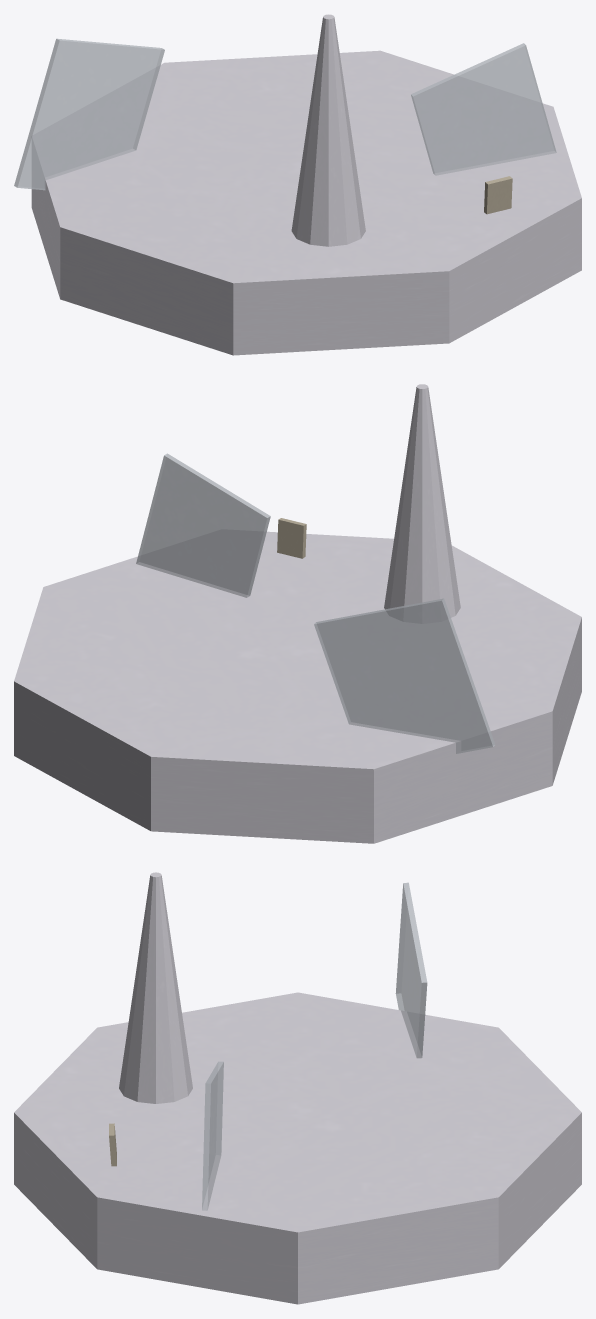
File: glass-necropolis.glb
3 renders of one model, top to bottom at view 1: azimuth 30°, elevation 25°; view 2: azimuth 150°, elevation 25°; view 3: azimuth 270°, elevation 25°, orthographic. The views are drawn at different scales.
Visible parts, largest first — view 1: necropolis-high-plateau, necropolis-glass-panel-0, necropolis-glass-panel-1, necropolis-spire, necropolis-grave-marker-0; view 2: necropolis-high-plateau, necropolis-glass-panel-0, necropolis-glass-panel-1, necropolis-spire, necropolis-grave-marker-0; view 3: necropolis-high-plateau, necropolis-spire, necropolis-glass-panel-0, necropolis-glass-panel-1.
Part boxes in pixels (x1,y1,x2,y2): necropolis-high-plateau: [31, 50, 581, 355]; necropolis-glass-panel-0: [14, 38, 164, 190]; necropolis-glass-panel-1: [411, 43, 556, 175]; necropolis-spire: [291, 14, 365, 246]; necropolis-grave-marker-0: [484, 176, 512, 214]; necropolis-high-plateau: [14, 530, 581, 843]; necropolis-glass-panel-0: [314, 598, 495, 753]; necropolis-glass-panel-1: [136, 453, 270, 597]; necropolis-spire: [384, 384, 460, 623]; necropolis-grave-marker-0: [277, 518, 306, 558]; necropolis-high-plateau: [14, 992, 581, 1304]; necropolis-spire: [119, 872, 192, 1103]; necropolis-glass-panel-0: [395, 882, 427, 1058]; necropolis-glass-panel-1: [202, 1061, 223, 1210].
Size of the model in its own units: 2 by 1.27 by 2.
Materials: 3 (3 with a texture image).
